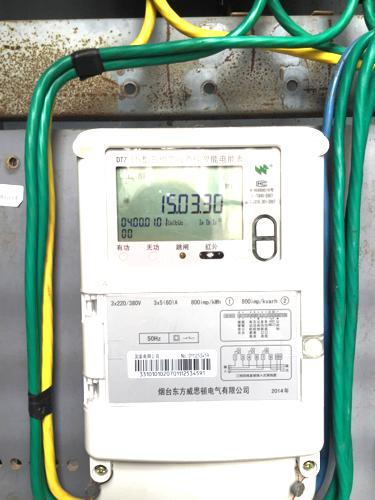digital: (78, 125, 325, 460)
